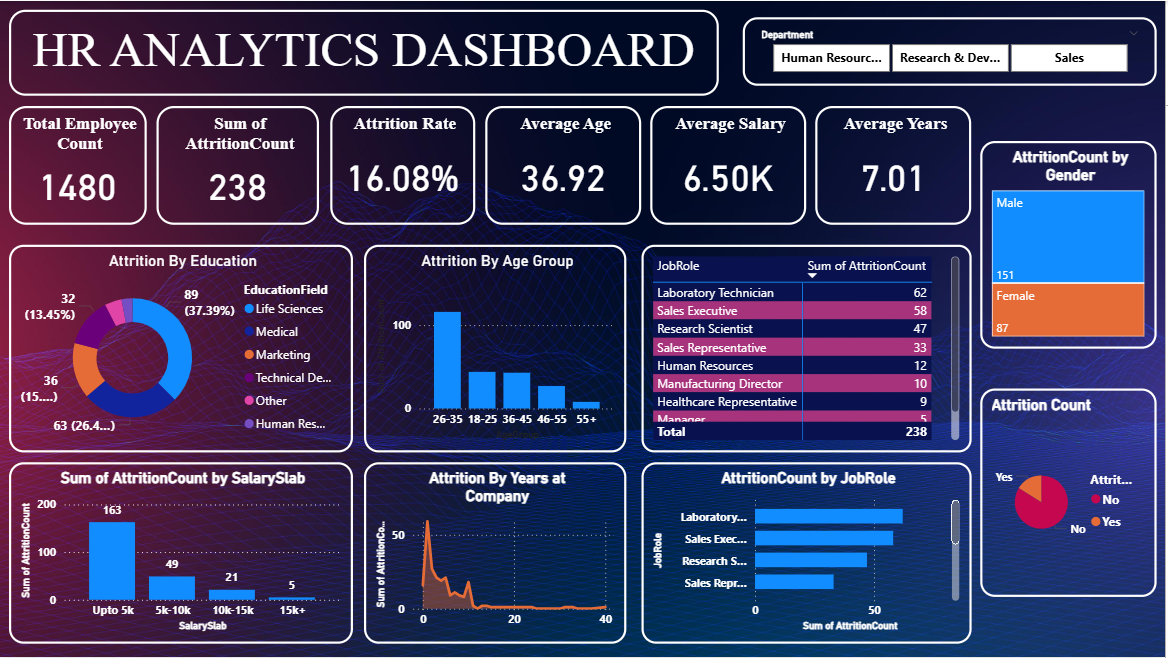

The dashboard page shown, as its layout file describes it:
{"tool":"powerbi","page":{"name":"HR ANALYTICS DASHBOARD","canvas":[1280,720],"ordinal":0},"visuals":[{"type":"textbox","box":[11,9.6,779.4,94.7],"z":0},{"type":"card","title":"Total Employee Count","fields":{"Values":["Sum(HR_Analytics.EmployeeCount)"]},"box":[11,115.3,150.9,130.4],"z":1000},{"type":"card","title":"Sum of AttritionCount","fields":{"Values":["Sum(HR_Analytics.AttritionCount)"]},"box":[172.9,115.3,178.4,130.4],"z":2000},{"type":"card","title":"Attrition Rate","fields":{"Values":["HR_Analytics.AttritionRate"]},"box":[363.6,115.3,159.2,130.4],"z":3000},{"type":"card","title":"Average Age","fields":{"Values":["Avg(HR_Analytics.Age)"]},"box":[533.8,115.3,171.5,130.4],"z":4000},{"type":"card","title":"Average Salary","fields":{"Values":["Avg(HR_Analytics.MonthlyIncome)"]},"box":[714.9,115.3,171.5,130.4],"z":5000},{"type":"card","title":"Average Years","fields":{"Values":["Avg(HR_Analytics.YearsAtCompany)"]},"box":[896.1,115.3,171.5,130.4],"z":6000},{"type":"donutChart","title":"Attrition By Education","fields":{"Y":["Sum(HR_Analytics.AttritionCount)"],"Category":["HR_Analytics.EducationField"]},"box":[11,267.6,377.4,227.8],"z":7000},{"type":"clusteredColumnChart","title":"Attrition By Age Group","fields":{"Y":["Sum(HR_Analytics.AttritionCount)"],"Category":["HR_Analytics.AgeGroup"]},"box":[400.7,267.6,288.2,227.8],"z":8000},{"type":"pivotTable","fields":{"Rows":["HR_Analytics.JobRole"],"Values":["Sum(HR_Analytics.AttritionCount)"]},"box":[705.3,267.6,362.3,227.8],"z":9000},{"type":"clusteredColumnChart","fields":{"Y":["Sum(HR_Analytics.AttritionCount)"],"Category":["HR_Analytics.SalarySlab"]},"box":[11,506.3,377.4,199],"z":10000},{"type":"areaChart","title":"Attrition By Years at Company","fields":{"Category":["HR_Analytics.YearsAtCompany"],"Y":["Sum(HR_Analytics.AttritionCount)"]},"box":[400.7,506.3,288.2,199],"z":11000},{"type":"clusteredBarChart","title":"AttritionCount by JobRole","fields":{"Category":["HR_Analytics.JobRole"],"Y":["Sum(HR_Analytics.AttritionCount)"]},"box":[705,506,362,199],"z":12000},{"type":"slicer","fields":{"Values":["HR_Analytics.Department"]},"box":[816.5,17.8,454.2,75.5],"z":13000},{"type":"treemap","title":"AttritionCount by Gender","fields":{"Group":["HR_Analytics.Gender"],"Values":["Sum(HR_Analytics.AttritionCount)"]},"box":[1077.2,153.7,193.5,227.8],"z":14000},{"type":"pieChart","title":"Attrition Count","fields":{"Category":["HR_Analytics.Attrition"],"Y":["CountNonNull(HR_Analytics.Attrition)"]},"box":[1077.2,425.4,193.5,229.2],"z":15000}]}

Visuals, with their boxes in screenshot pixels (x1, y1, x2, y2), scaled from the page's 1280x720 canvas onto the 1168x658 screenshot:
textbox: Rect(10, 9, 721, 95)
"Total Employee Count" card: Rect(10, 105, 148, 225)
"Sum of AttritionCount" card: Rect(158, 105, 321, 225)
"Attrition Rate" card: Rect(332, 105, 477, 225)
"Average Age" card: Rect(487, 105, 644, 225)
"Average Salary" card: Rect(652, 105, 809, 225)
"Average Years" card: Rect(818, 105, 974, 225)
"Attrition By Education" donutChart: Rect(10, 245, 354, 453)
"Attrition By Age Group" clusteredColumnChart: Rect(366, 245, 629, 453)
pivotTable - HR_Analytics.JobRole x Sum(HR_Analytics.AttritionCount): Rect(644, 245, 974, 453)
clusteredColumnChart - Sum(HR_Analytics.AttritionCount) x HR_Analytics.SalarySlab: Rect(10, 463, 354, 645)
"Attrition By Years at Company" areaChart: Rect(366, 463, 629, 645)
"AttritionCount by JobRole" clusteredBarChart: Rect(643, 462, 974, 644)
slicer - HR_Analytics.Department: Rect(745, 16, 1160, 85)
"AttritionCount by Gender" treemap: Rect(983, 140, 1160, 349)
"Attrition Count" pieChart: Rect(983, 389, 1160, 598)
